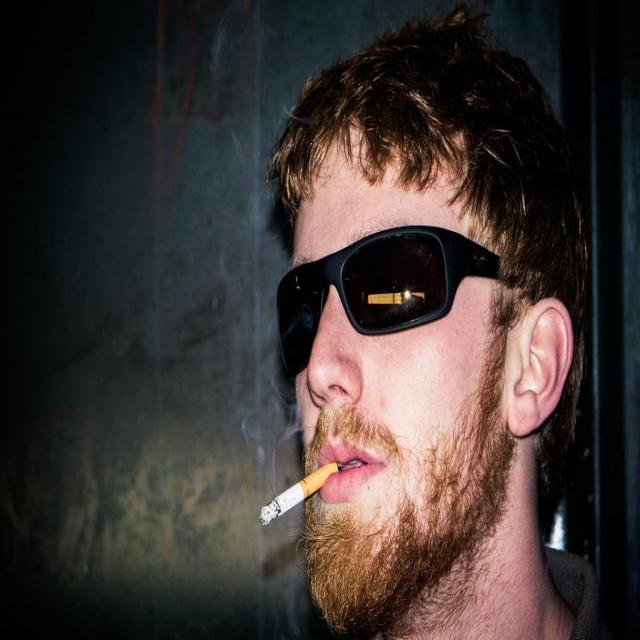Сигарета: (260, 461, 338, 526)
Тело: (276, 20, 572, 640)
